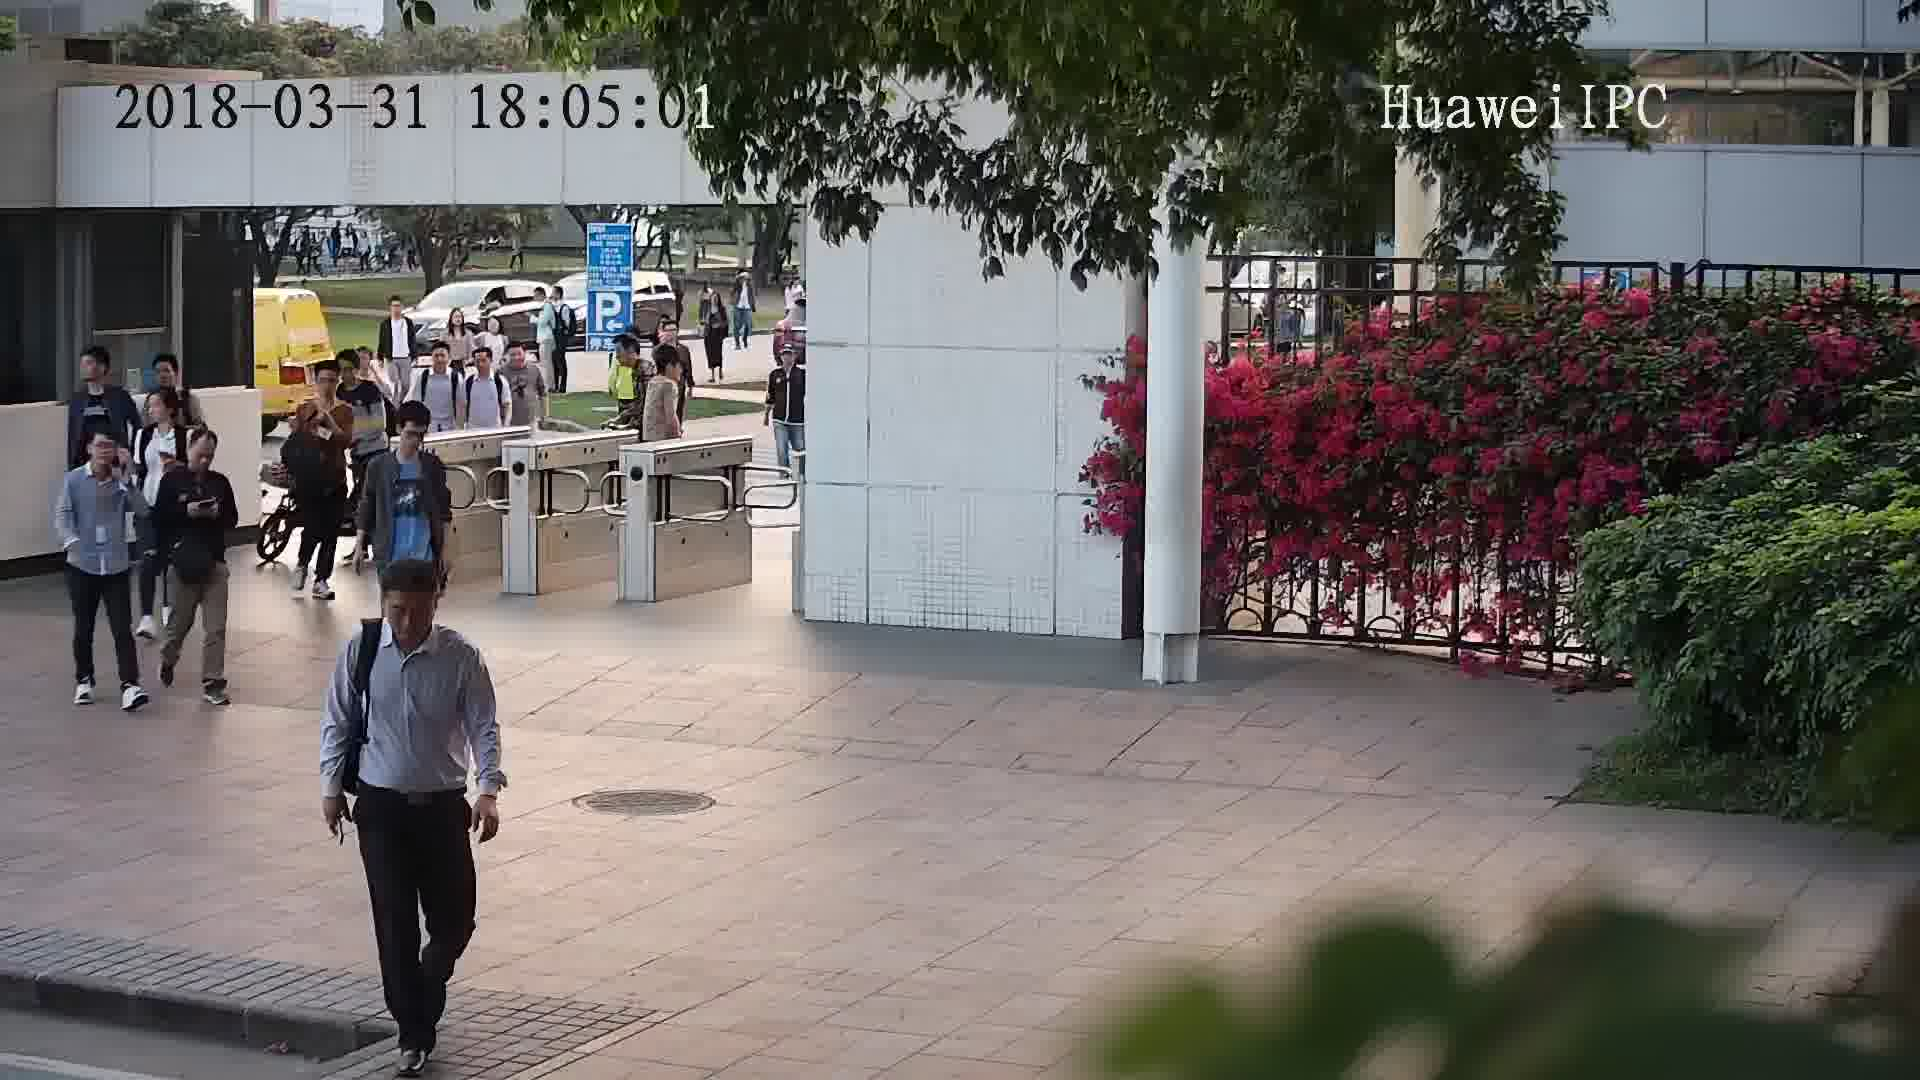face: (380, 585, 440, 645)
person: (337, 552, 480, 672), (368, 399, 444, 480), (65, 424, 147, 498), (160, 423, 235, 497), (73, 341, 141, 417), (141, 382, 201, 451), (279, 394, 334, 455), (147, 350, 200, 409), (299, 355, 350, 416), (335, 346, 386, 404), (416, 341, 466, 383), (645, 347, 686, 394), (650, 315, 693, 359), (461, 347, 507, 388), (379, 293, 422, 333), (499, 337, 541, 379), (764, 347, 806, 386), (356, 342, 391, 388), (614, 329, 644, 367), (439, 306, 472, 336), (476, 313, 509, 342), (542, 282, 570, 315), (702, 290, 725, 319), (527, 283, 549, 313)
